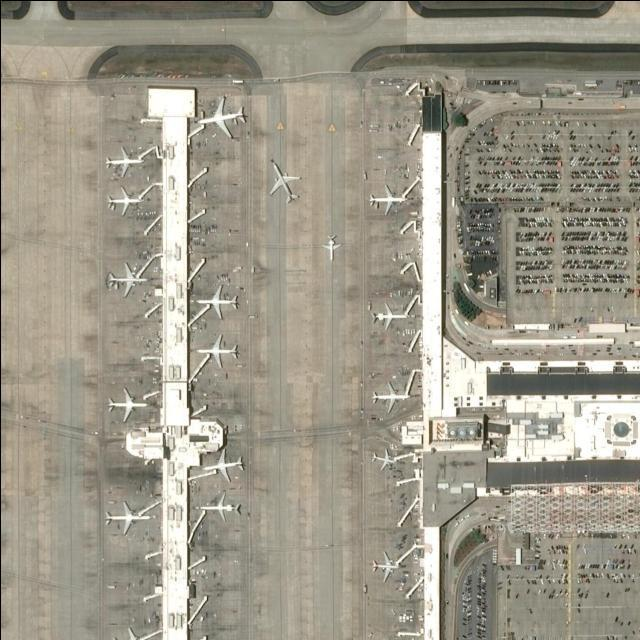Aircraft: (198, 100, 250, 140), (192, 283, 244, 323), (265, 159, 305, 204), (194, 335, 243, 369), (103, 503, 151, 537), (104, 261, 149, 297), (105, 390, 151, 425), (205, 448, 248, 484), (104, 146, 146, 178), (105, 183, 143, 218), (369, 299, 410, 331), (197, 494, 243, 522), (369, 381, 411, 411), (369, 185, 409, 214), (369, 550, 400, 582), (369, 449, 398, 471), (111, 628, 154, 640), (321, 236, 342, 260)
